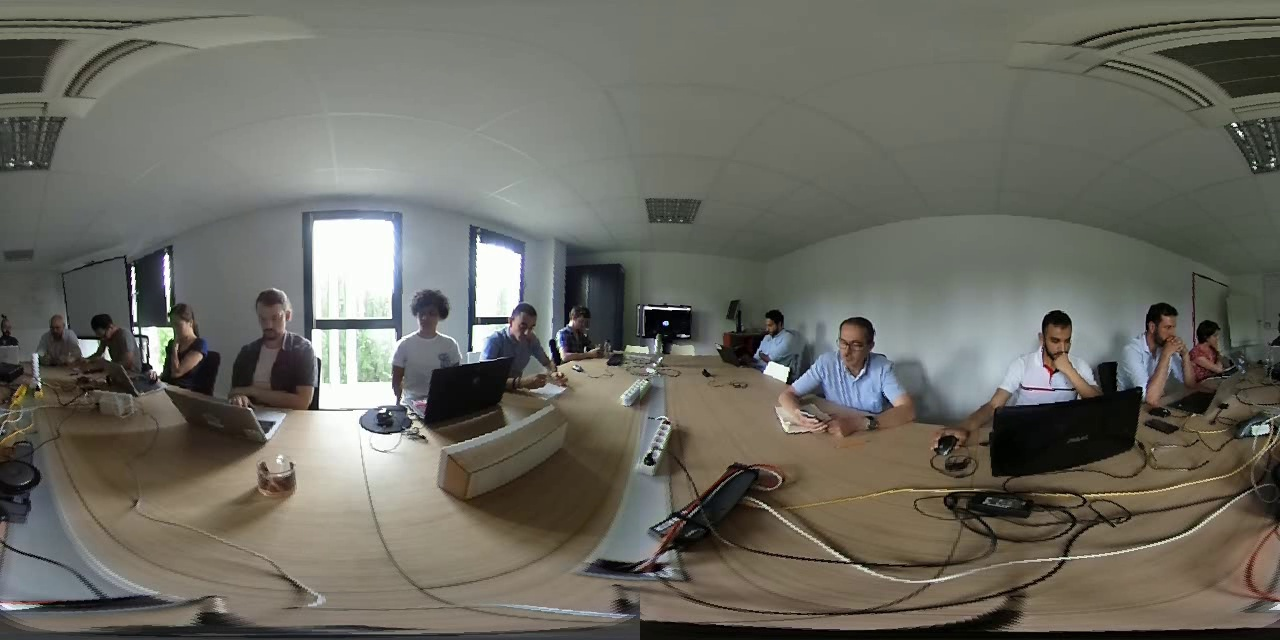person: (800, 296, 916, 434), (227, 283, 322, 409), (990, 303, 1101, 401), (1116, 297, 1186, 410), (387, 281, 465, 379), (483, 291, 547, 388), (154, 296, 217, 386), (1187, 305, 1241, 380), (87, 302, 145, 370), (747, 297, 796, 371), (553, 290, 600, 361), (35, 306, 85, 365), (1, 309, 26, 353)
